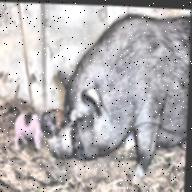boar: (44, 5, 192, 187), (11, 108, 57, 151)
